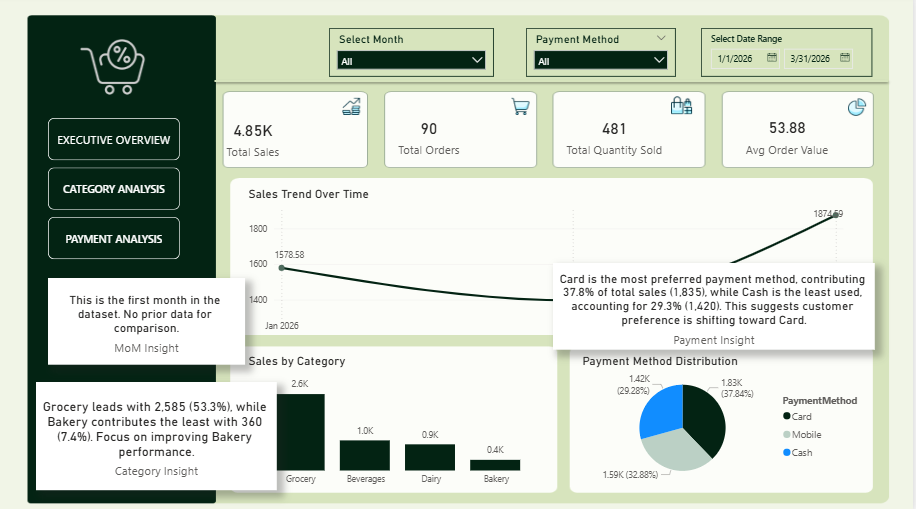

What the dashboard file says about the page in this screenshot:
{"tool":"powerbi","page":{"name":"EXECUTIVE OVERVIEW","canvas":[1280,720],"ordinal":0},"visuals":[{"type":"card","fields":{"Values":["Supermarket.Total Orders"]},"box":[528.8,150.7,153.5,87.9],"z":0},{"type":"card","fields":{"Values":["Supermarket.Total Sales"]},"box":[279.1,156.3,161.9,82.3],"z":1000},{"type":"card","fields":{"Values":["Supermarket.Total Quantity Sold"]},"box":[778.6,140.9,171.6,107.4],"z":2000},{"type":"card","fields":{"Values":["Supermarket.Avg Order Value"]},"box":[1027,149.3,156.3,89.3],"z":3000},{"type":"columnChart","title":"Total Sales by Category","fields":{"Category":["Supermarket.Category"],"Y":["Supermarket.Total Sales"]},"box":[348.8,499.5,428.4,192.6],"z":4000},{"type":"lineChart","title":"Sales Trend Over Time","fields":{"Category":["Date Table.Month Year"],"Y":["Supermarket.Total Sales"]},"box":[348.8,260.9,855.3,212.1],"z":5000},{"type":"pieChart","title":"Sales Distribution by Payment Method","fields":{"Category":["Supermarket.PaymentMethod"],"Y":["Supermarket.Total Sales"]},"box":[814.9,499.5,408.8,187],"z":6000},{"type":"slicer","fields":{"Values":["Date Table.Date"]},"box":[985.1,44.7,238.6,68.4],"z":7000},{"type":"slicer","fields":{"Values":["Supermarket.PaymentMethod"]},"box":[740.9,44.7,209.3,68.4],"z":8000},{"type":"card","fields":{"Values":["Supermarket.MoM Insight"]},"box":[74,360,274.9,121.4],"z":9000},{"type":"slicer","fields":{"Values":["Date Table.Month Year"]},"box":[466,44.7,230.2,68.4],"z":10000},{"type":"card","fields":{"Values":["Supermarket.Category Insight"]},"box":[53,520.5,325.1,150.7],"z":11000},{"type":"card","fields":{"Values":["Supermarket.Payment Insight"]},"box":[778.6,248.4,449.3,121.4],"z":12000},{"type":"pageNavigator","box":[74,156.3,184.2,199.5],"z":13001}]}

Visuals, with their boxes in screenshot pixels (x1, y1, x2, y2), scaled from the page's 1280x720 canvas onto the 916x509 screenshot:
card - Supermarket.Total Orders: bbox=(378, 107, 488, 169)
card - Supermarket.Total Sales: bbox=(200, 110, 316, 169)
card - Supermarket.Total Quantity Sold: bbox=(557, 100, 680, 176)
card - Supermarket.Avg Order Value: bbox=(735, 106, 847, 169)
"Total Sales by Category" columnChart: bbox=(250, 353, 556, 489)
"Sales Trend Over Time" lineChart: bbox=(250, 184, 862, 334)
"Sales Distribution by Payment Method" pieChart: bbox=(583, 353, 876, 485)
slicer - Date Table.Date: bbox=(705, 32, 876, 80)
slicer - Supermarket.PaymentMethod: bbox=(530, 32, 680, 80)
card - Supermarket.MoM Insight: bbox=(53, 255, 250, 340)
slicer - Date Table.Month Year: bbox=(333, 32, 498, 80)
card - Supermarket.Category Insight: bbox=(38, 368, 271, 475)
card - Supermarket.Payment Insight: bbox=(557, 176, 879, 261)
pageNavigator: bbox=(53, 110, 185, 252)
